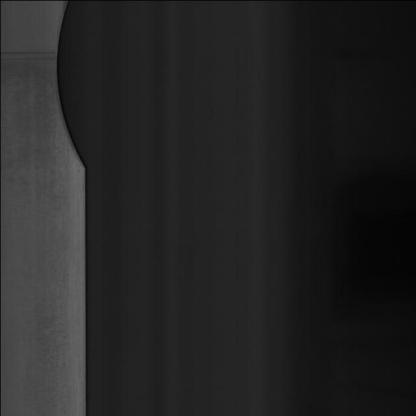crescent_gap: (49, 1, 96, 181)
welding_line: (0, 44, 60, 67)
